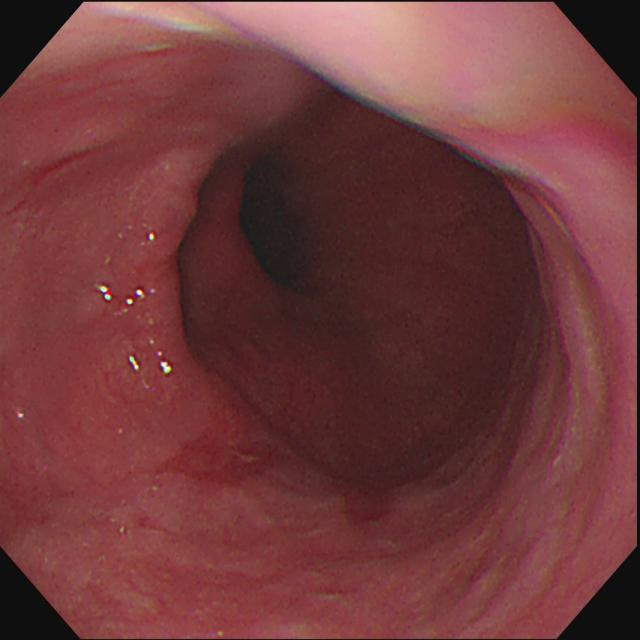D: (161, 418, 288, 485)
E: (235, 162, 330, 309)
U: (97, 283, 146, 309), (127, 355, 143, 375), (159, 359, 174, 378)
